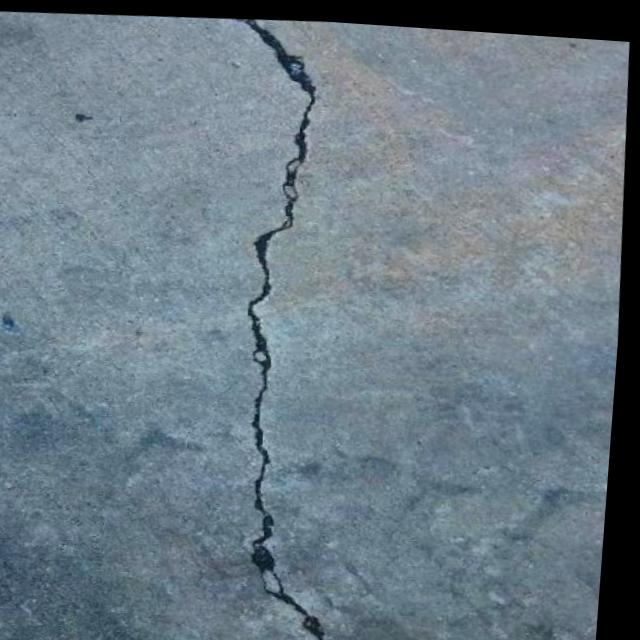Crack: (136, 9, 435, 640)
